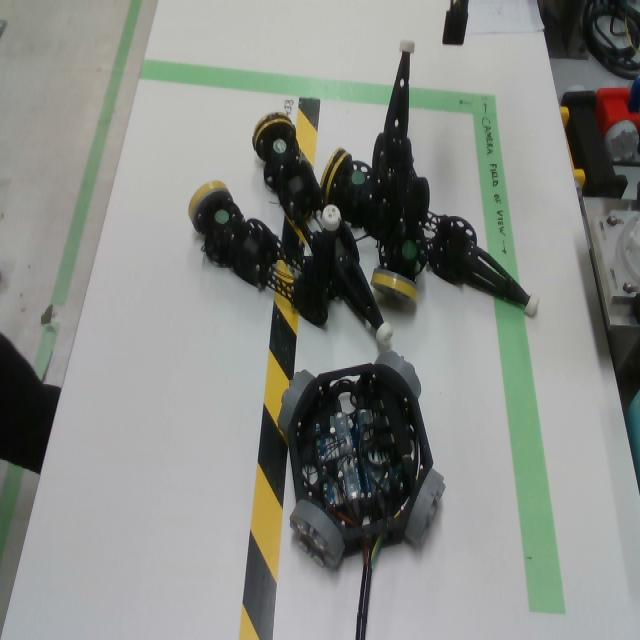body: (288, 364, 434, 557)
body_connector: (289, 500, 345, 569), (405, 469, 446, 545), (278, 371, 316, 435), (374, 352, 421, 399)
leg: (187, 180, 341, 327), (371, 40, 430, 305), (423, 212, 539, 320), (252, 112, 322, 253), (335, 221, 393, 340), (321, 148, 386, 240)
leg_connector: (187, 180, 234, 235), (252, 112, 296, 161), (319, 148, 353, 207), (371, 268, 418, 300)
leg_marker: (402, 240, 417, 260), (215, 209, 229, 224), (351, 171, 365, 185), (273, 139, 286, 153)
